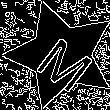M_NE: (26, 21, 96, 89)
